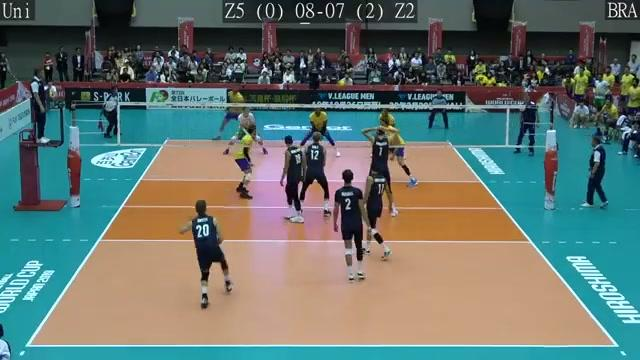ball: (336, 78, 347, 89)
